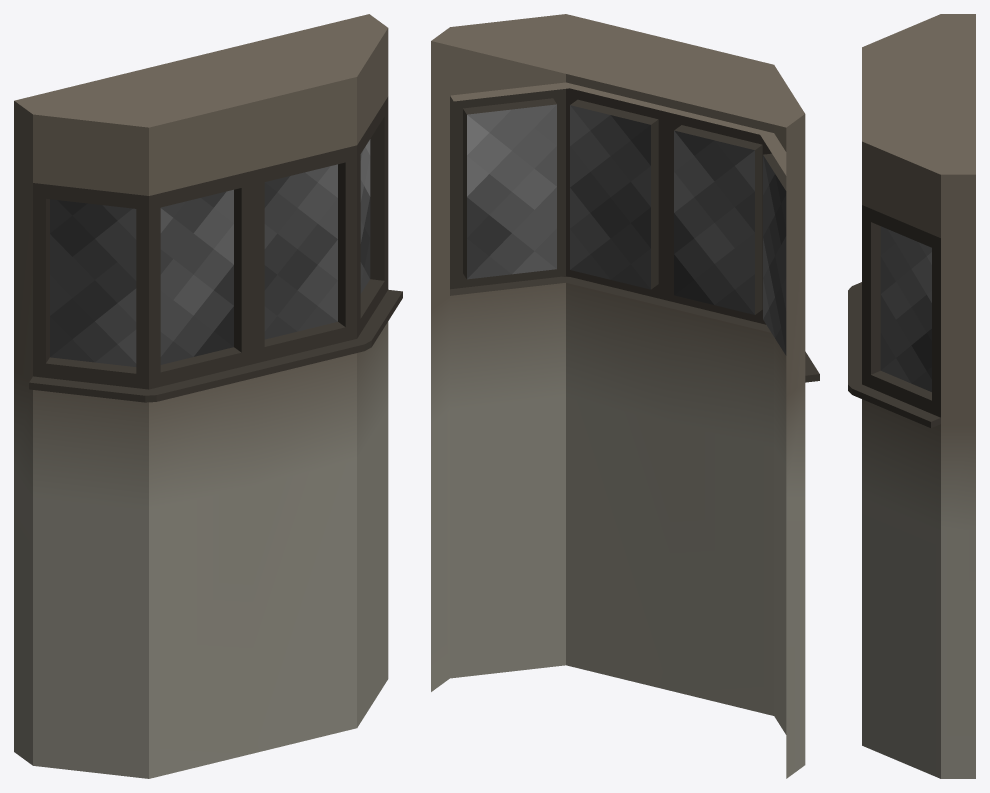
File: Front_B-Window.fbx
3 renders of one model, left to right at view 1: azimuth 30°, elevation 25°; view 2: azimuth 150°, elevation 25°; view 3: azimuth 270°, elevation 25°, orthographic. The views are drawn at different scales.
Visible parts, largest first — view 1: Front_B-Window; view 2: Front_B-Window; view 3: Front_B-Window.
Part boxes in pixels (<box>): Front_B-Window: <box>14,14,402,778</box>; Front_B-Window: <box>431,14,819,778</box>; Front_B-Window: <box>848,14,975,778</box>.
Size of the model in its own units: 286 by 476 by 91.24.
